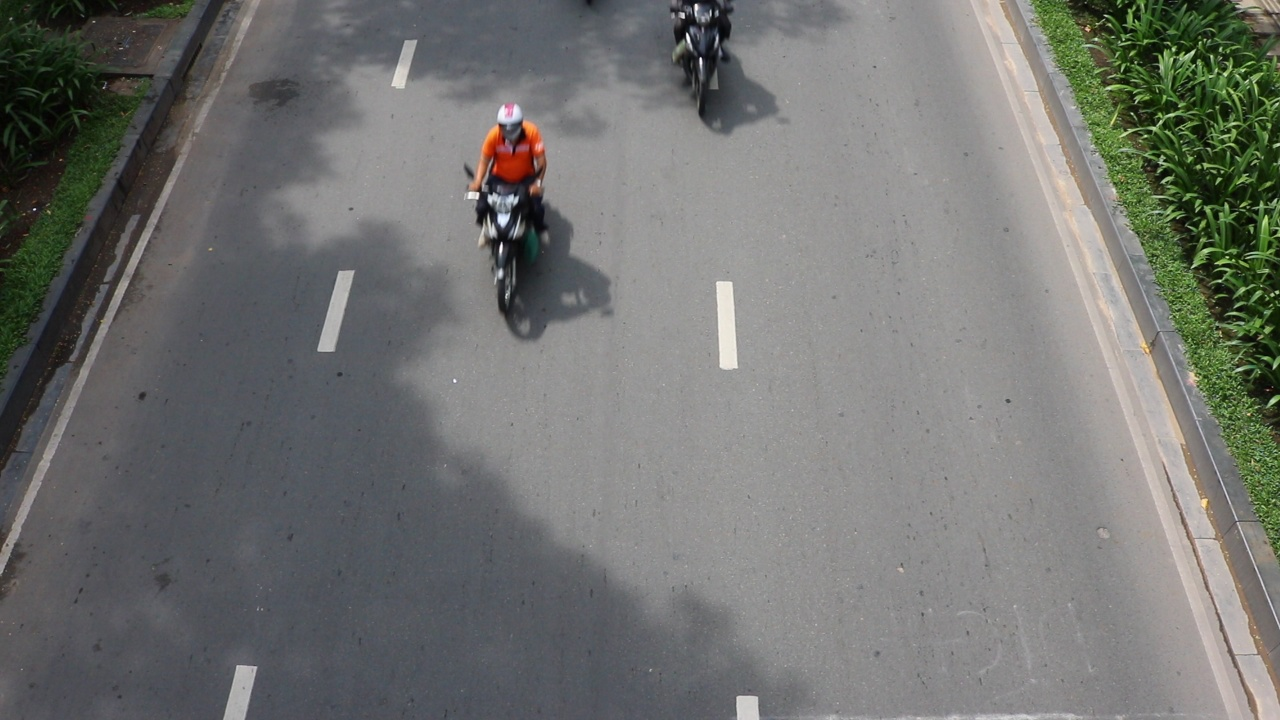motorcycle: (466, 175, 549, 314), (669, 2, 735, 114)
